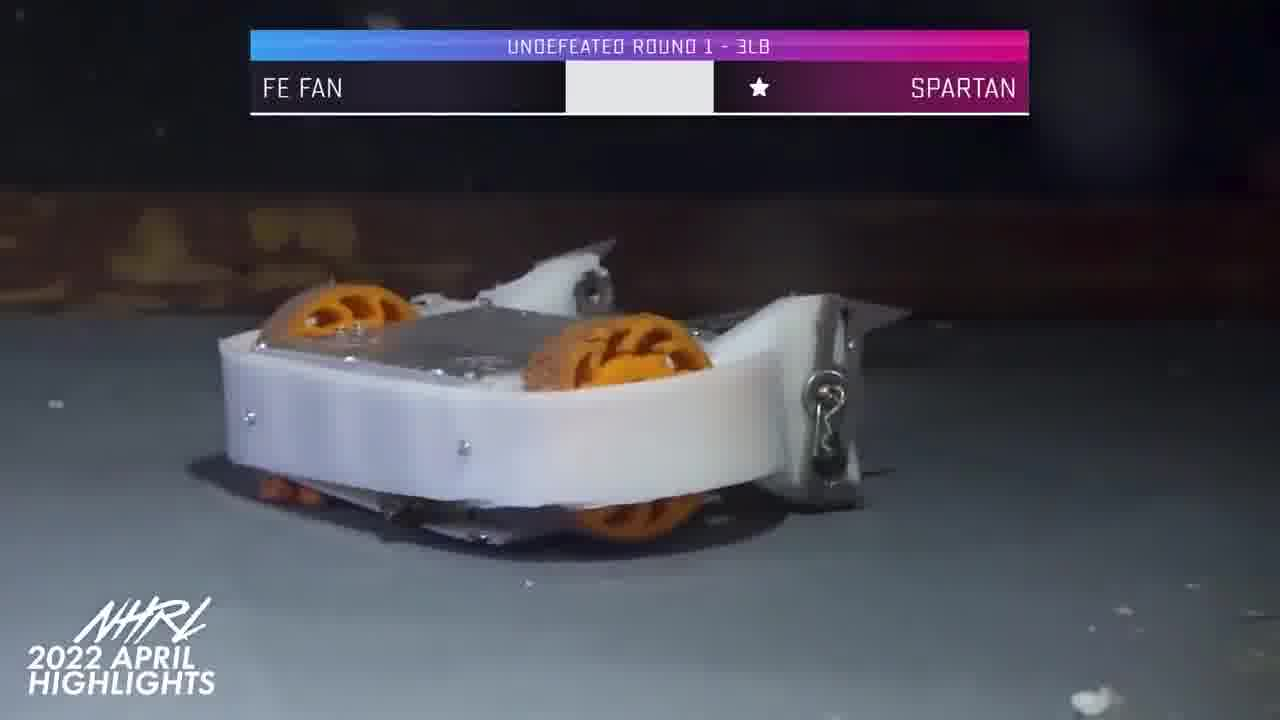combatbot: (220, 234, 872, 548)
